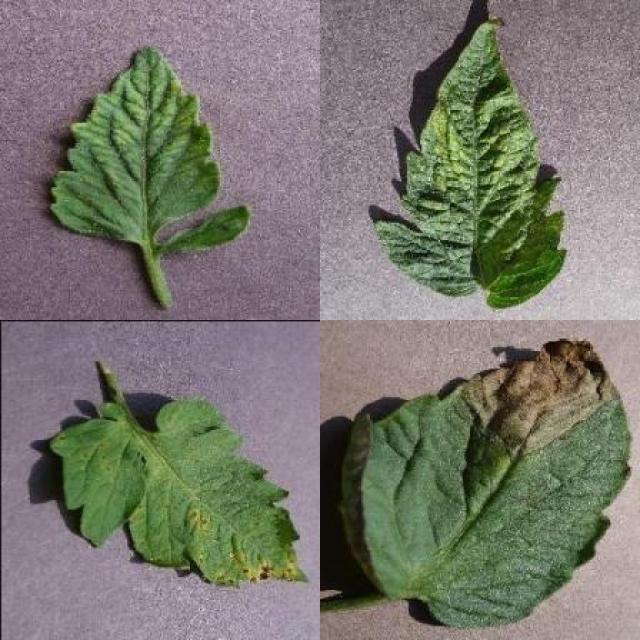Late Blight: (342, 336, 634, 630)
Mosaic Virus: (45, 42, 252, 255)
Septoria: (52, 401, 308, 586)
Spider Mites: (375, 19, 568, 310)
